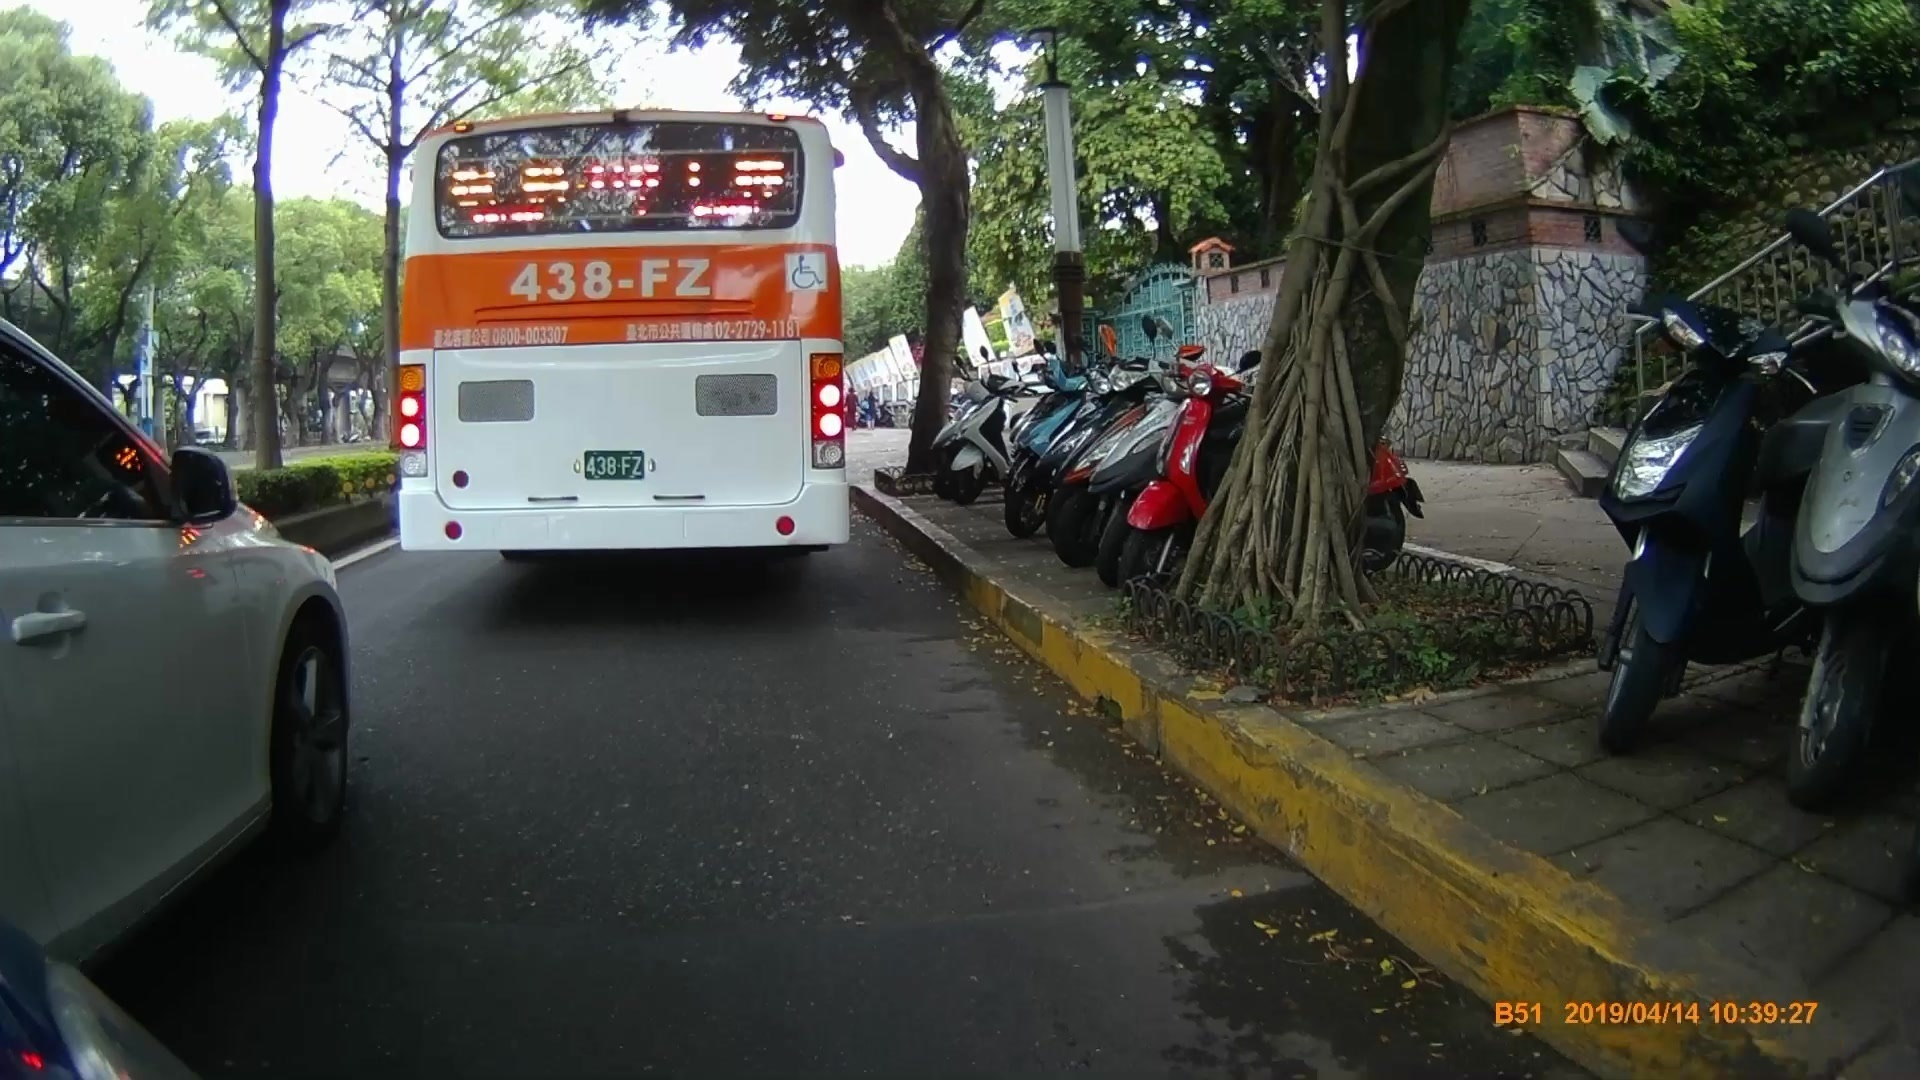License_plate: (581, 453, 649, 485)
